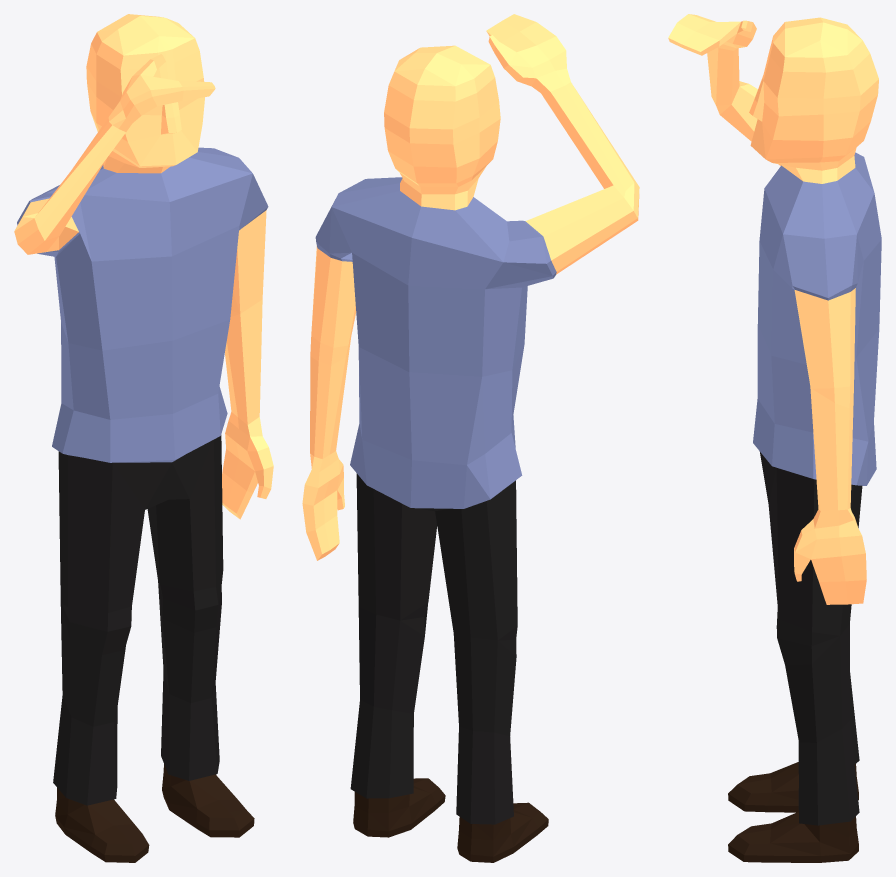
Rendered from male_standing_covering_eyes.glb.
3 views of the same model, side by side, from view 1: azimuth 30°, elevation 25°; view 2: azimuth 150°, elevation 25°; view 3: azimuth 270°, elevation 25° (orthographic). The views are drawn at different scales.
Parts seen in each view (by area): view 1: Male_Standing_CoveringEyes; view 2: Male_Standing_CoveringEyes; view 3: Male_Standing_CoveringEyes.
Part boxes in pixels (x1=…): Male_Standing_CoveringEyes: x1=14, y1=14, x2=273, y2=862; Male_Standing_CoveringEyes: x1=302, y1=14, x2=639, y2=862; Male_Standing_CoveringEyes: x1=668, y1=14, x2=881, y2=862.
Size of the model in its own units: 0.6905 by 1.85 by 0.4454.
